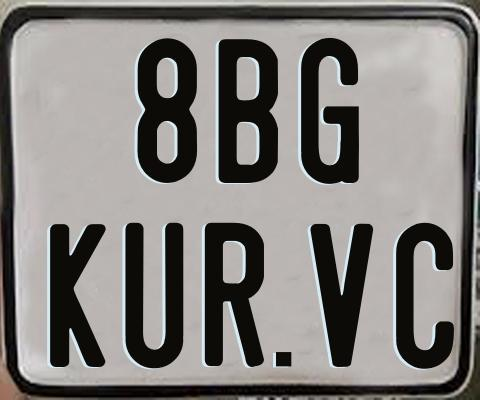8: (134, 38, 200, 187)
B: (216, 39, 280, 185)
C: (395, 223, 453, 372)
G: (300, 35, 360, 183)
K: (48, 222, 107, 366)
R: (202, 222, 263, 366)
U: (125, 222, 187, 371)
V: (307, 221, 376, 367)
